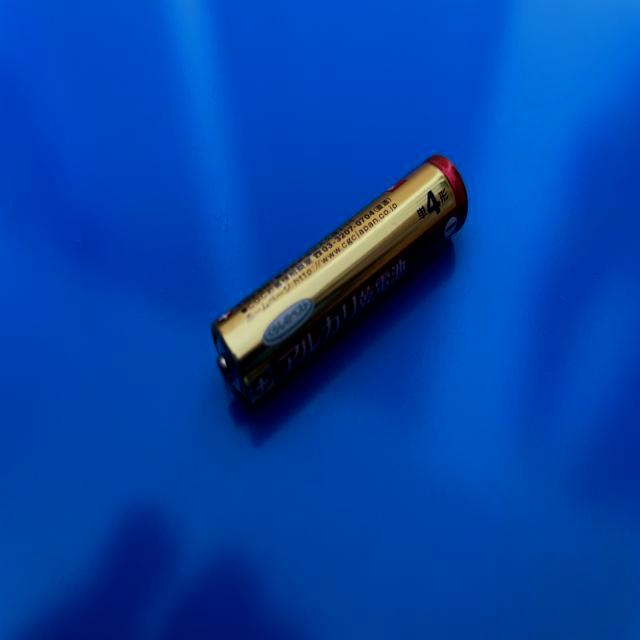AA: (207, 153, 469, 406)
